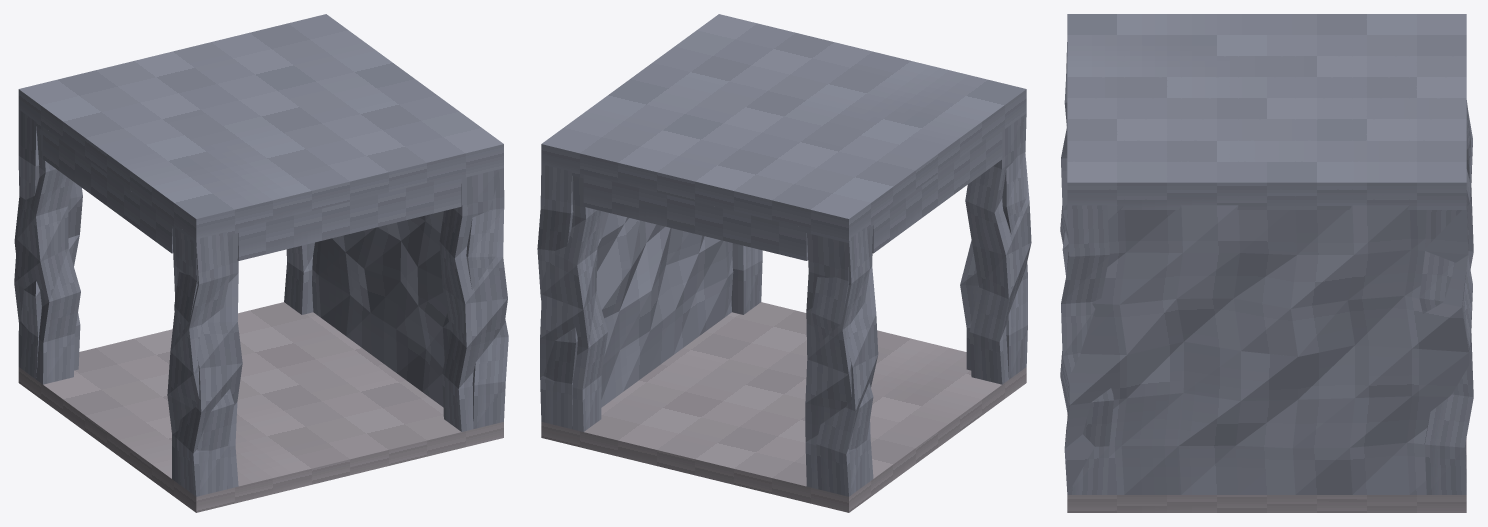
The model's file is cave-and-crystal-networks-tunnel-t-junction-cb93cee2.glb.
3 renders of one model, left to right at view 1: azimuth 30°, elevation 25°; view 2: azimuth 150°, elevation 25°; view 3: azimuth 270°, elevation 25°, orthographic. The views are drawn at different scales.
Parts seen in each view (by area): view 1: tunnel-t-junction; view 2: tunnel-t-junction; view 3: tunnel-t-junction.
Part boxes in pixels (<box>): tunnel-t-junction: <box>14,14,508,512</box>; tunnel-t-junction: <box>537,14,1031,512</box>; tunnel-t-junction: <box>1060,14,1473,512</box>.
Size of the model in its own units: 4.15 by 3.65 by 4.14.
Materials: 2 (2 with a texture image).
